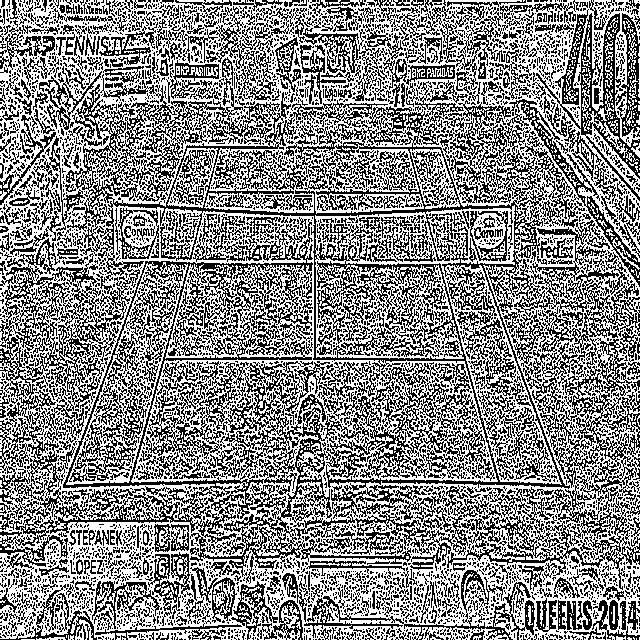left side: (64, 146, 218, 485), (408, 147, 562, 485)
player: (280, 372, 334, 520), (270, 69, 296, 147)
